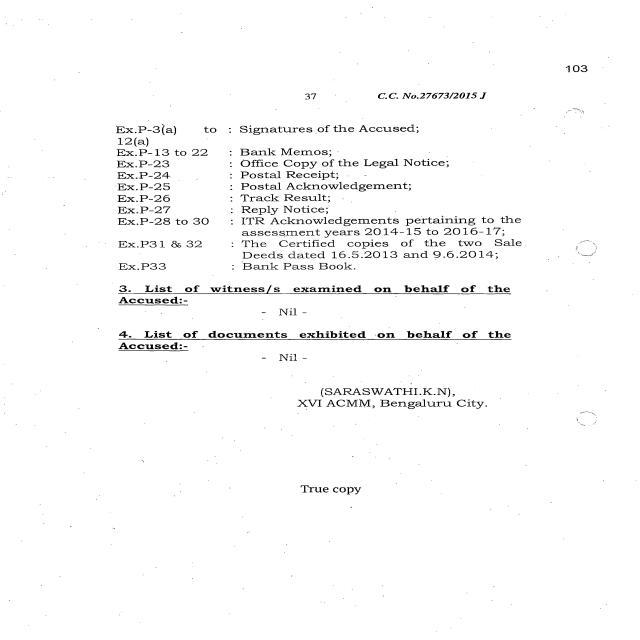page-number: (488, 0, 640, 104)
